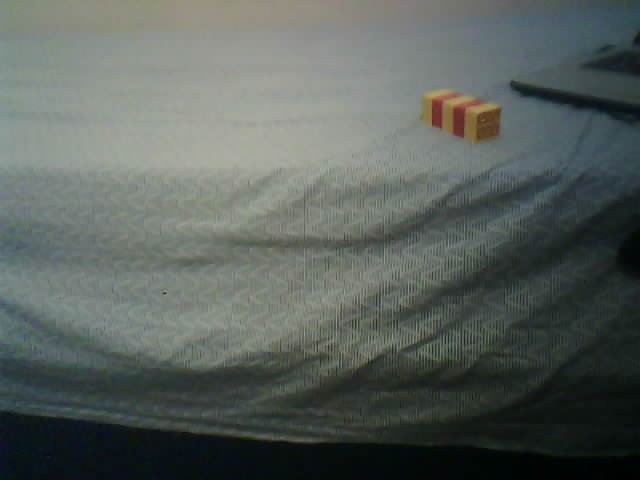lego: (419, 88, 501, 144)
